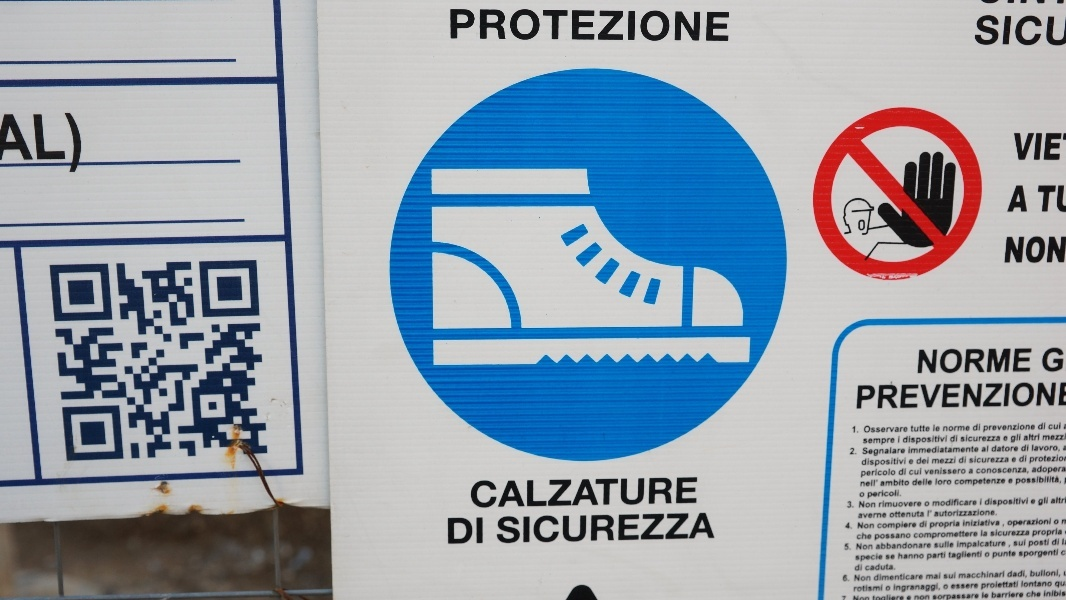text: (1, 115, 16, 162), (17, 115, 32, 162), (33, 115, 48, 162), (49, 115, 64, 162), (993, 12, 1008, 47), (1009, 12, 1024, 47), (1025, 12, 1040, 47), (1041, 12, 1056, 47), (465, 9, 480, 43), (481, 9, 496, 43), (497, 9, 512, 43), (513, 9, 528, 43), (529, 9, 544, 43), (545, 9, 560, 43), (561, 9, 576, 43), (577, 9, 592, 43), (593, 9, 608, 43), (609, 9, 624, 43), (625, 9, 640, 43), (641, 9, 656, 43), (657, 9, 672, 43), (673, 9, 688, 43), (689, 9, 704, 43), (705, 9, 720, 43), (1041, 182, 1056, 216), (481, 478, 496, 511), (497, 478, 512, 511), (513, 478, 528, 511), (529, 478, 544, 511), (545, 478, 560, 511), (561, 478, 576, 511), (577, 478, 592, 511), (593, 478, 608, 511), (609, 478, 624, 511), (625, 478, 640, 511), (641, 478, 656, 511), (657, 478, 672, 511), (673, 478, 688, 511), (978, 12, 992, 47), (450, 9, 464, 43), (497, 514, 512, 545), (513, 514, 528, 545), (529, 514, 544, 545), (545, 514, 560, 545), (561, 514, 576, 545), (577, 514, 592, 545), (593, 514, 608, 545), (609, 514, 624, 545), (625, 514, 640, 545), (641, 514, 656, 545), (657, 514, 672, 545), (673, 514, 688, 545), (689, 514, 704, 545), (705, 514, 720, 545), (449, 518, 464, 547), (465, 518, 480, 547), (1025, 134, 1040, 162), (1041, 134, 1056, 162), (1009, 237, 1024, 265), (1025, 237, 1040, 265), (1041, 237, 1056, 265), (929, 348, 944, 375), (945, 348, 960, 375), (961, 348, 976, 375), (977, 348, 992, 375), (993, 348, 1008, 375), (1009, 348, 1024, 375), (865, 383, 880, 410), (881, 383, 896, 410), (897, 383, 912, 410), (913, 383, 928, 410), (929, 383, 944, 410), (945, 383, 960, 410), (961, 383, 976, 410), (977, 383, 992, 410), (993, 383, 1008, 410), (1009, 383, 1024, 410), (1025, 383, 1040, 410), (1041, 383, 1056, 410), (721, 9, 731, 43), (689, 478, 699, 511), (1044, 348, 1056, 375), (1057, 12, 1066, 47), (1013, 134, 1024, 162), (1057, 182, 1066, 216), (471, 478, 480, 511), (65, 115, 71, 162), (1057, 237, 1066, 265), (1057, 348, 1066, 375), (1025, 348, 1033, 375), (1057, 134, 1064, 162), (921, 348, 928, 375), (929, 550, 944, 562), (945, 550, 960, 562), (961, 550, 976, 562), (993, 547, 1008, 559), (1009, 547, 1024, 559), (1025, 547, 1040, 559), (1041, 547, 1056, 559), (993, 422, 1008, 433), (1009, 422, 1024, 433), (1041, 453, 1056, 464), (1025, 475, 1040, 486), (1041, 475, 1056, 486), (913, 435, 928, 445), (929, 435, 944, 445), (865, 448, 880, 458), (881, 448, 896, 458), (865, 468, 880, 478), (881, 489, 896, 499), (945, 508, 960, 518), (961, 508, 976, 518), (977, 508, 992, 518), (913, 530, 928, 540), (929, 530, 944, 540), (945, 530, 960, 540), (961, 530, 976, 540), (1041, 528, 1056, 538), (961, 540, 976, 550), (977, 540, 992, 550), (881, 572, 896, 582), (897, 572, 912, 582), (913, 572, 928, 582), (945, 571, 960, 581), (961, 571, 976, 581), (977, 571, 992, 581), (897, 582, 912, 592), (913, 582, 928, 592), (993, 580, 1008, 590), (1025, 433, 1041, 442), (961, 498, 977, 507), (881, 468, 895, 478), (993, 540, 1007, 550), (859, 383, 864, 410), (913, 446, 928, 455), (929, 446, 944, 455), (945, 446, 960, 455), (961, 446, 976, 455), (865, 457, 880, 466), (881, 457, 896, 466), (945, 498, 960, 507), (993, 497, 1008, 506), (1009, 497, 1024, 506), (929, 520, 944, 529), (945, 520, 960, 529), (961, 520, 976, 529), (977, 520, 992, 529), (881, 532, 896, 541), (865, 554, 880, 563), (881, 554, 896, 563), (865, 563, 880, 572), (881, 563, 896, 572), (1009, 569, 1024, 578), (961, 581, 976, 590), (1025, 579, 1040, 588), (1012, 433, 1024, 444), (1028, 453, 1040, 464), (993, 571, 1006, 581), (993, 456, 1009, 464), (897, 532, 911, 541), (1025, 422, 1036, 433), (865, 438, 880, 446), (1041, 444, 1056, 452), (977, 456, 992, 464), (897, 467, 912, 475), (929, 467, 944, 475), (945, 467, 960, 475), (977, 466, 992, 474), (993, 466, 1008, 474), (1009, 466, 1024, 474), (1041, 465, 1056, 473), (881, 479, 896, 487), (913, 478, 928, 486), (961, 477, 976, 485), (977, 477, 992, 485), (868, 489, 880, 499), (881, 500, 896, 508), (897, 500, 912, 508), (897, 510, 912, 518), (1009, 518, 1024, 526), (1025, 518, 1040, 526), (993, 529, 1008, 537), (1009, 529, 1024, 537), (881, 542, 896, 550), (897, 542, 912, 550), (913, 542, 928, 550), (929, 572, 941, 582), (1041, 569, 1056, 577), (865, 585, 880, 593), (929, 582, 941, 592), (881, 438, 895, 446), (865, 479, 879, 487), (898, 553, 912, 561), (1042, 589, 1056, 597), (981, 580, 992, 590), (1009, 580, 1020, 590), (932, 498, 944, 507), (865, 426, 880, 433), (881, 426, 896, 433), (961, 435, 976, 442), (977, 435, 992, 442), (993, 445, 1008, 452), (865, 512, 880, 519), (881, 522, 896, 529), (897, 522, 912, 529), (993, 592, 1008, 599), (1009, 592, 1024, 599), (851, 448, 864, 456), (993, 477, 1006, 485), (1027, 590, 1040, 598), (1015, 475, 1024, 486), (1041, 579, 1052, 588), (852, 426, 864, 434), (932, 456, 944, 464), (897, 479, 909, 487), (913, 510, 925, 518), (980, 529, 992, 537), (899, 436, 912, 443), (979, 498, 992, 505), (913, 426, 928, 432), (897, 448, 906, 458), (897, 457, 907, 466), (935, 508, 944, 518), (854, 563, 864, 572), (950, 581, 960, 590), (945, 594, 960, 600), (961, 594, 976, 600), (984, 422, 992, 433), (945, 456, 956, 464), (1041, 518, 1052, 526), (913, 553, 924, 561), (853, 585, 864, 593), (481, 518, 484, 547), (1042, 435, 1056, 441), (916, 457, 928, 464), (865, 521, 874, 530), (904, 435, 912, 445), (950, 435, 960, 443), (913, 500, 923, 508), (934, 541, 944, 549), (945, 541, 955, 549), (854, 574, 864, 582), (1030, 569, 1040, 577), (881, 585, 891, 593), (1011, 457, 1024, 463), (897, 426, 908, 433), (1057, 453, 1064, 464), (865, 501, 876, 508), (1041, 495, 1048, 506), (1013, 540, 1024, 547), (865, 595, 880, 600), (881, 595, 896, 600), (897, 595, 912, 600), (983, 445, 992, 453), (1031, 444, 1040, 452), (984, 497, 992, 506), (856, 554, 864, 563), (977, 550, 983, 562), (932, 594, 944, 600), (934, 425, 944, 432), (1009, 445, 1019, 452), (934, 478, 944, 485), (1033, 528, 1040, 538), (982, 592, 992, 599), (914, 595, 928, 600), (1038, 182, 1040, 216), (1032, 465, 1040, 473), (1057, 465, 1065, 473), (888, 510, 896, 518), (865, 543, 873, 551), (913, 468, 922, 475), (857, 521, 864, 530), (993, 508, 999, 518), (1057, 528, 1063, 538), (993, 435, 1001, 442), (921, 520, 928, 528), (857, 543, 864, 551), (985, 551, 992, 559), (949, 426, 960, 431), (1057, 475, 1062, 486), (906, 446, 912, 455), (849, 500, 855, 509), (1031, 498, 1040, 504), (993, 520, 999, 529), (842, 573, 848, 582), (897, 489, 902, 499), (875, 572, 880, 582), (854, 595, 864, 600), (945, 478, 952, 485), (857, 501, 864, 508), (1057, 497, 1064, 504), (857, 512, 864, 519), (857, 533, 864, 540), (865, 533, 872, 540), (1050, 422, 1056, 430), (961, 456, 967, 464), (970, 456, 976, 464), (954, 477, 960, 485), (865, 574, 871, 582), (961, 426, 970, 431), (1057, 435, 1064, 441), (969, 468, 976, 474), (1041, 422, 1046, 430), (1057, 422, 1062, 430), (1025, 444, 1030, 452), (1019, 455, 1024, 463), (923, 467, 928, 475), (961, 467, 966, 475), (849, 522, 854, 530), (1025, 529, 1030, 537), (875, 542, 880, 550), (956, 540, 960, 550), (892, 582, 896, 592), (1057, 589, 1062, 597), (1025, 497, 1029, 506), (876, 532, 880, 541), (1057, 547, 1060, 559), (859, 490, 864, 497), (1051, 497, 1056, 504), (881, 512, 886, 519), (1057, 444, 1061, 452), (1025, 466, 1029, 474), (860, 479, 864, 487), (844, 522, 848, 530), (844, 543, 848, 551), (1057, 569, 1061, 577), (945, 435, 948, 445), (861, 468, 864, 478), (1009, 478, 1014, 484), (447, 518, 448, 547), (977, 424, 981, 431), (1057, 383, 1058, 410), (861, 457, 864, 466), (1025, 569, 1028, 578), (1004, 436, 1008, 442), (1025, 455, 1028, 463), (929, 478, 932, 486), (849, 543, 852, 551), (929, 542, 932, 550), (1038, 495, 1040, 506), (909, 468, 912, 475), (929, 510, 932, 517), (877, 522, 880, 529), (913, 522, 916, 529), (945, 583, 948, 590), (843, 596, 848, 600), (977, 446, 979, 455), (977, 581, 979, 590), (1022, 579, 1024, 588), (977, 594, 980, 600), (1022, 444, 1024, 452), (878, 500, 880, 508), (1041, 590, 1043, 598), (945, 427, 948, 432), (925, 501, 928, 506), (974, 424, 976, 431), (910, 459, 912, 465), (991, 547, 992, 559), (977, 530, 978, 540), (1023, 433, 1024, 442), (847, 500, 848, 509), (849, 573, 850, 582), (1007, 569, 1008, 578), (1039, 422, 1040, 430), (975, 466, 976, 474), (911, 478, 912, 486), (1007, 518, 1008, 526), (927, 510, 928, 517), (1025, 540, 1026, 547), (911, 426, 912, 432), (929, 426, 930, 432), (929, 501, 930, 506), (929, 595, 930, 600)
